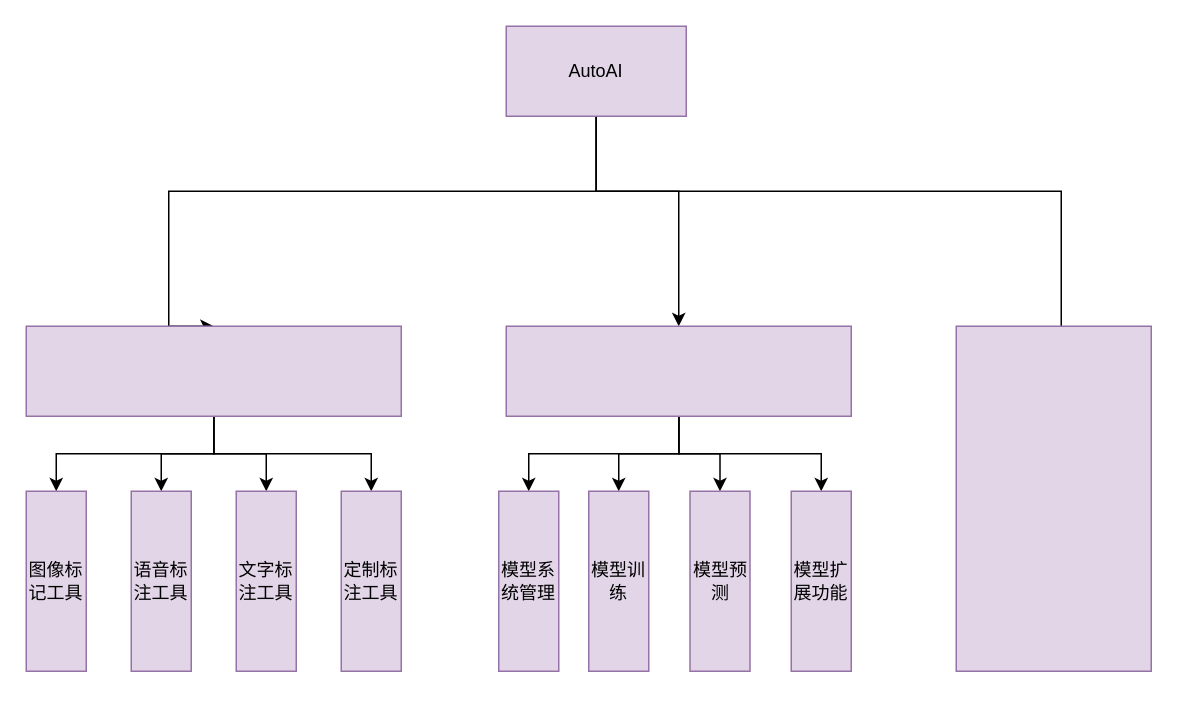
Some shapes in this 1178 by 710 pixel diagram are drawn without their labels. The centre of each missing label's shape, as x and y in pixels:
人工智能基础平台资源: (1053,498)
数据算法开发工具: (213,370)
算法模型管理工具: (678,370)
